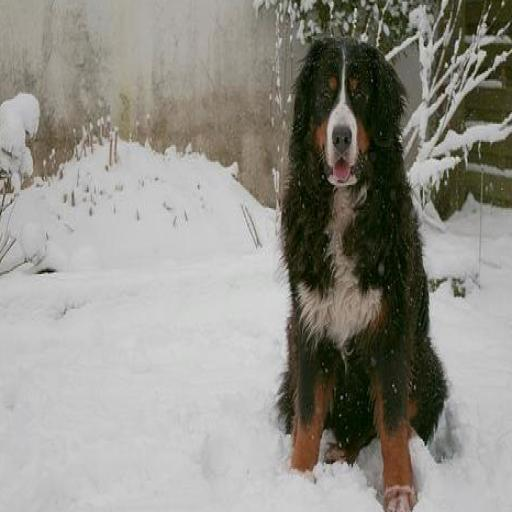dog_face: (294, 40, 397, 185)
